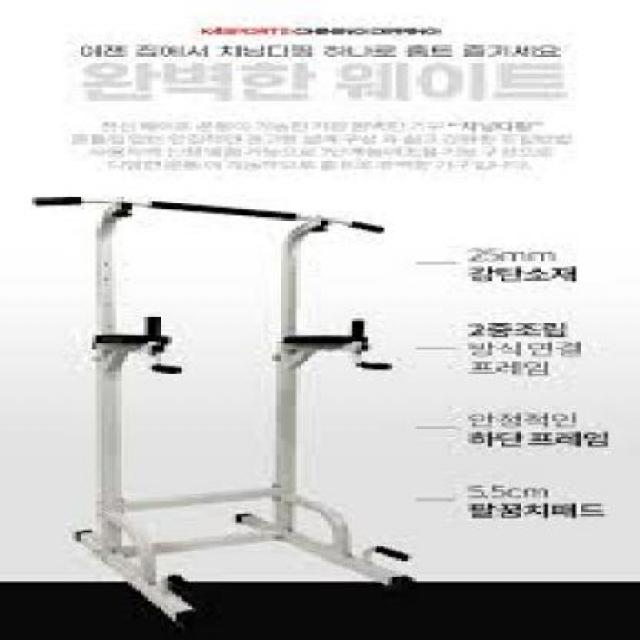chinning dipping: (39, 191, 423, 629)
